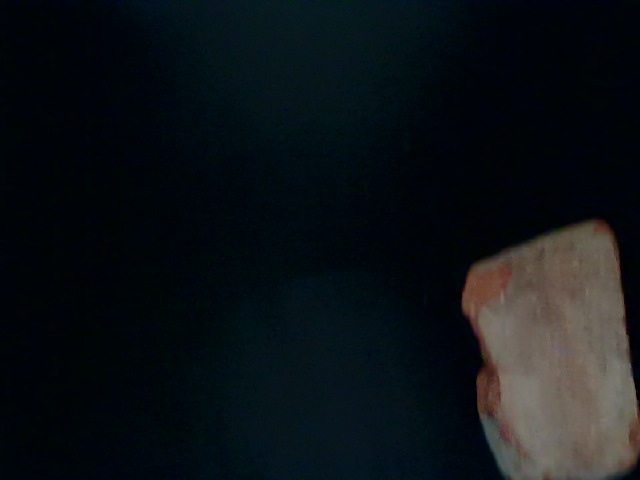KHSLJ: (128, 158, 470, 467)
